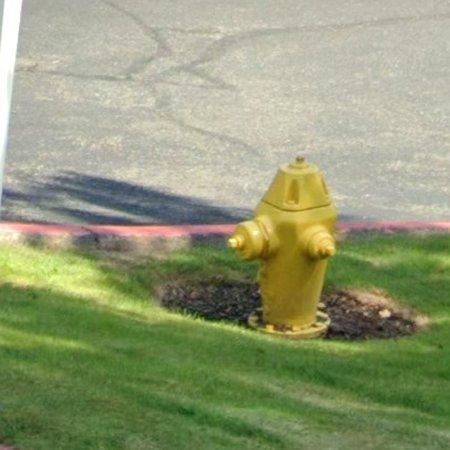a fire hydrant: (229, 157, 337, 336)
